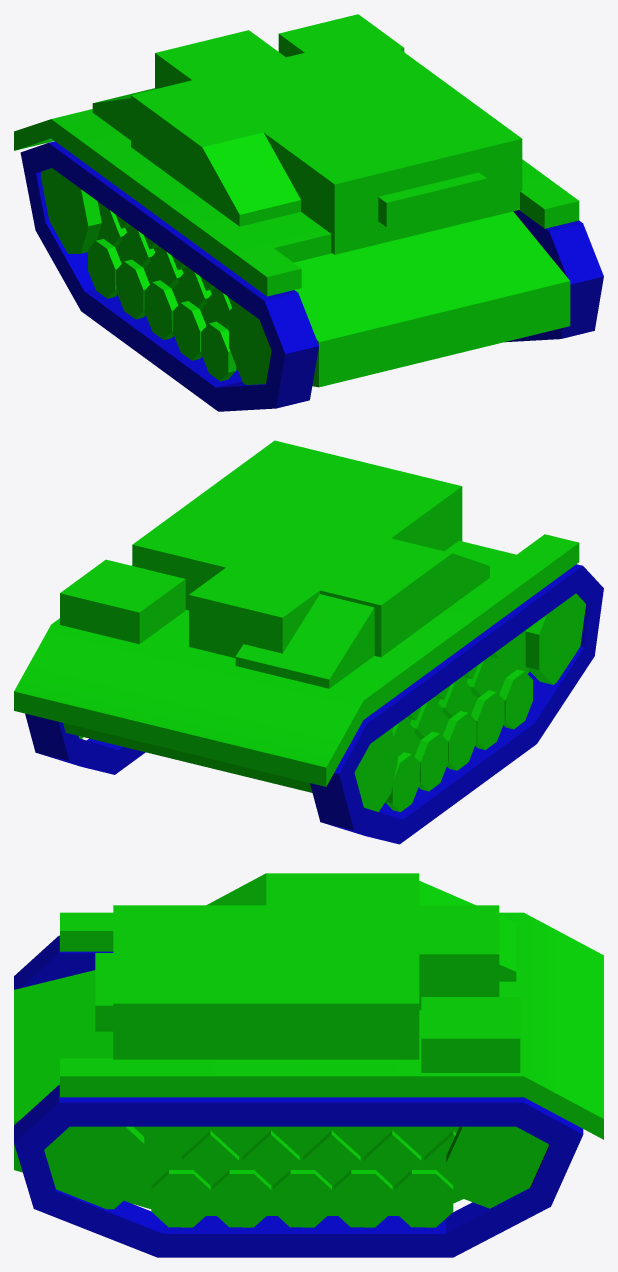
Rendered from Tank.fbx.
3 renders of one model, top to bottom at view 1: azimuth 30°, elevation 25°; view 2: azimuth 150°, elevation 25°; view 3: azimuth 270°, elevation 25°, orthographic. The views are drawn at different scales.
Parts seen in each view (by area): view 1: Tank; view 2: Tank; view 3: Tank.
Part boxes in pixels (x1=…): Tank: x1=14, y1=14, x2=603, y2=411; Tank: x1=14, y1=440, x2=603, y2=844; Tank: x1=14, y1=873, x2=603, y2=1257.
Size of what is drawn, in the model's own units: 436 by 287 by 651.
